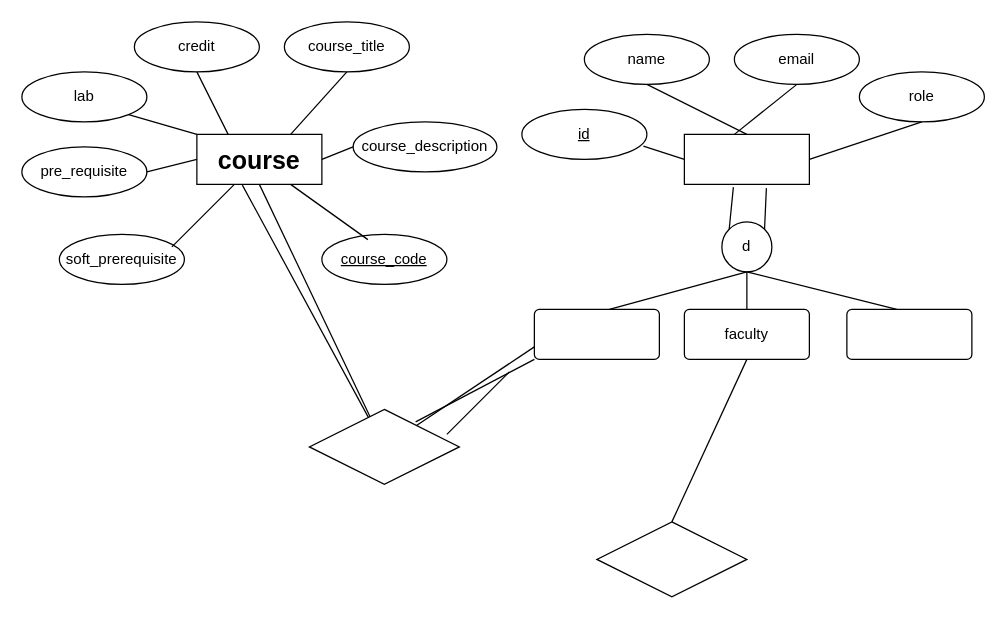
The diagram is 1006 pixels wide and 619 high, and some of its shapes have lost their labels. Here are the shapes that lost their labels. From the top down, the centre of each, then its label:
At point 746,158: "user".
At point 596,333: "admin".
At point 909,333: "student/ normal user".
At point 383,446: "Adds".
At point 671,559: "create".
